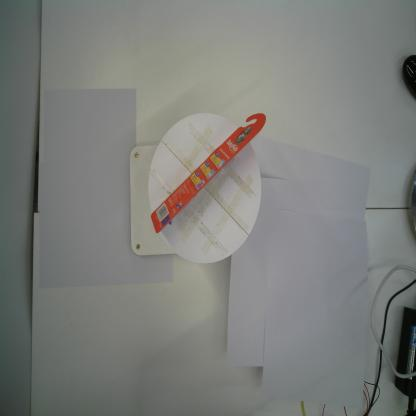Personal Hygiene: (150, 113, 266, 234)
